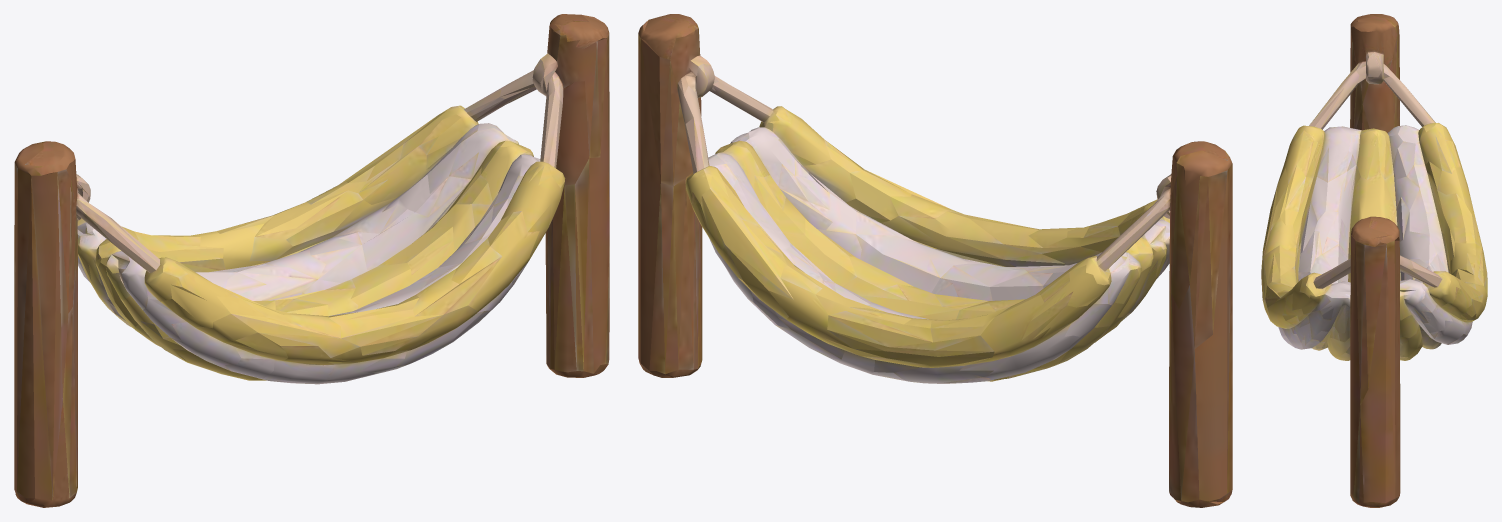
Rendered from hammock.glb.
3 renders of one model, left to right at view 1: azimuth 30°, elevation 25°; view 2: azimuth 150°, elevation 25°; view 3: azimuth 270°, elevation 25°, orthographic. The views are drawn at different scales.
Parts seen in each view (by area): view 1: Mesh_0; view 2: Mesh_0; view 3: Mesh_0.
Part boxes in pixels (x1,y1,x2,y2): Mesh_0: [14, 14, 609, 507]; Mesh_0: [638, 14, 1232, 507]; Mesh_0: [1261, 14, 1487, 507].
Size of the model in its own units: 1.9 by 1.08 by 0.8006.
Materials: 1 (1 with a texture image).
